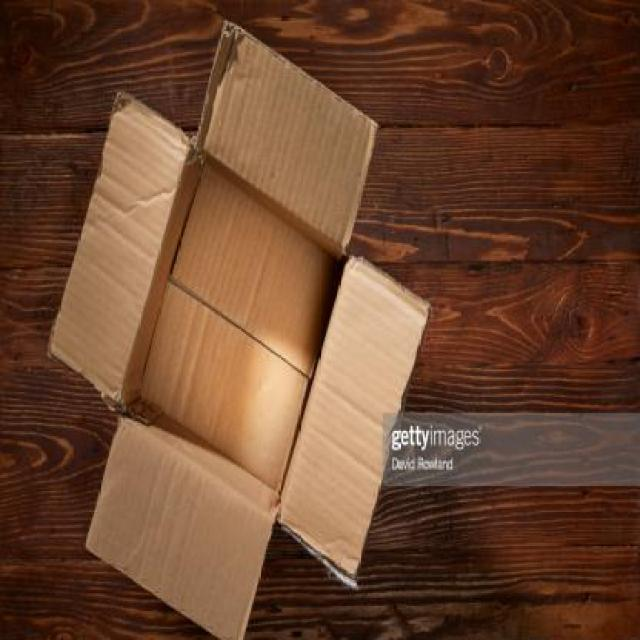box: (46, 0, 431, 640)
